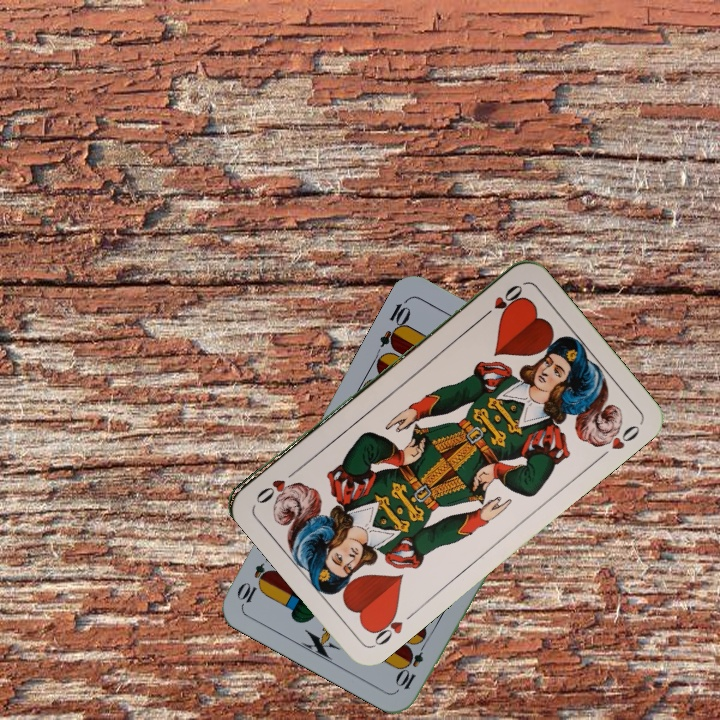E10: (375, 295, 414, 353), (393, 636, 430, 692)
HO: (366, 605, 419, 649), (476, 280, 526, 323)
